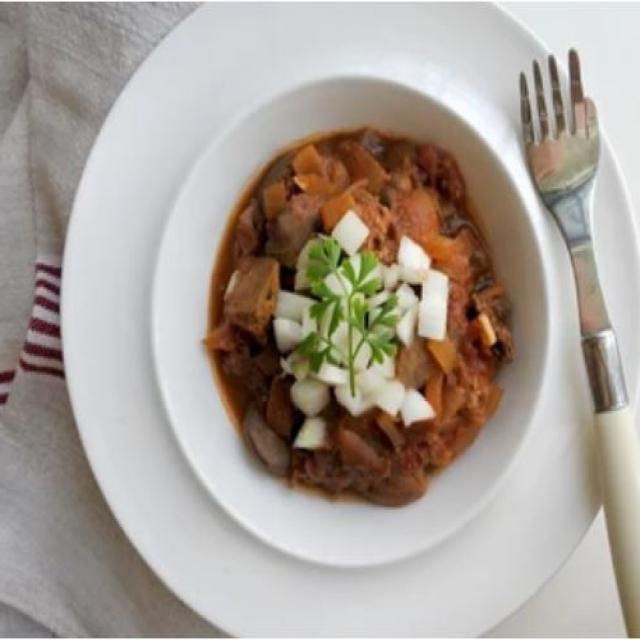kamouniya: (162, 75, 532, 500)
